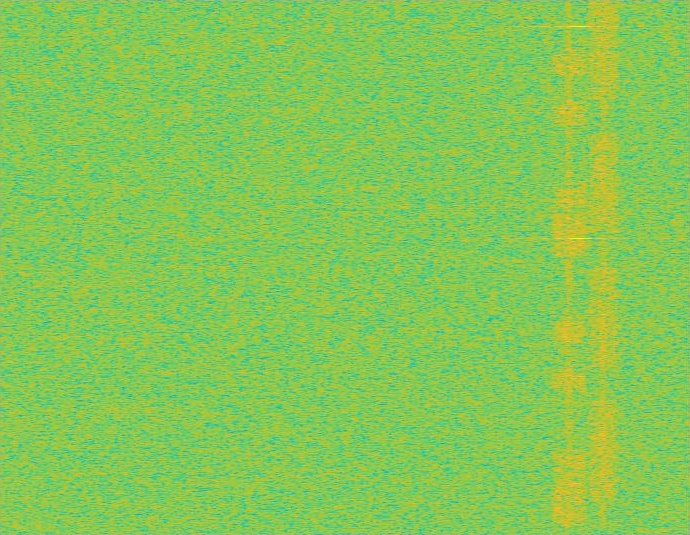5G: (587, 0, 621, 534)
DSSS: (565, 0, 573, 534), (600, 0, 608, 534)
LTE: (552, 0, 587, 534)
Radar: (573, 0, 587, 534)
